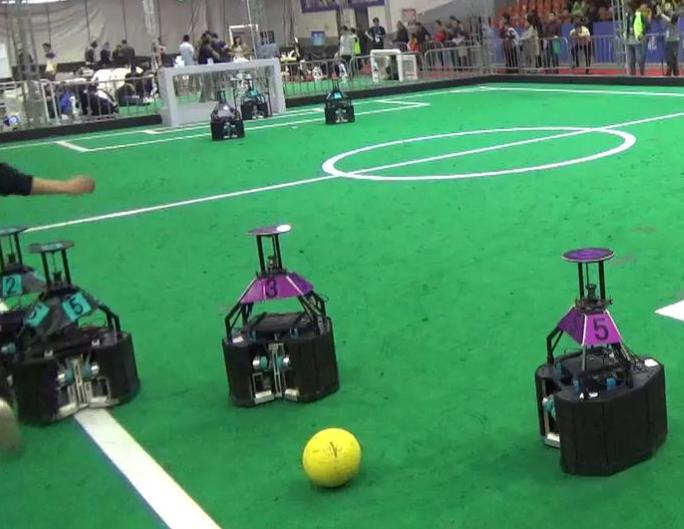robot: (533, 241, 671, 482), (5, 242, 149, 428), (215, 223, 344, 410), (316, 74, 363, 128), (204, 88, 249, 144)
